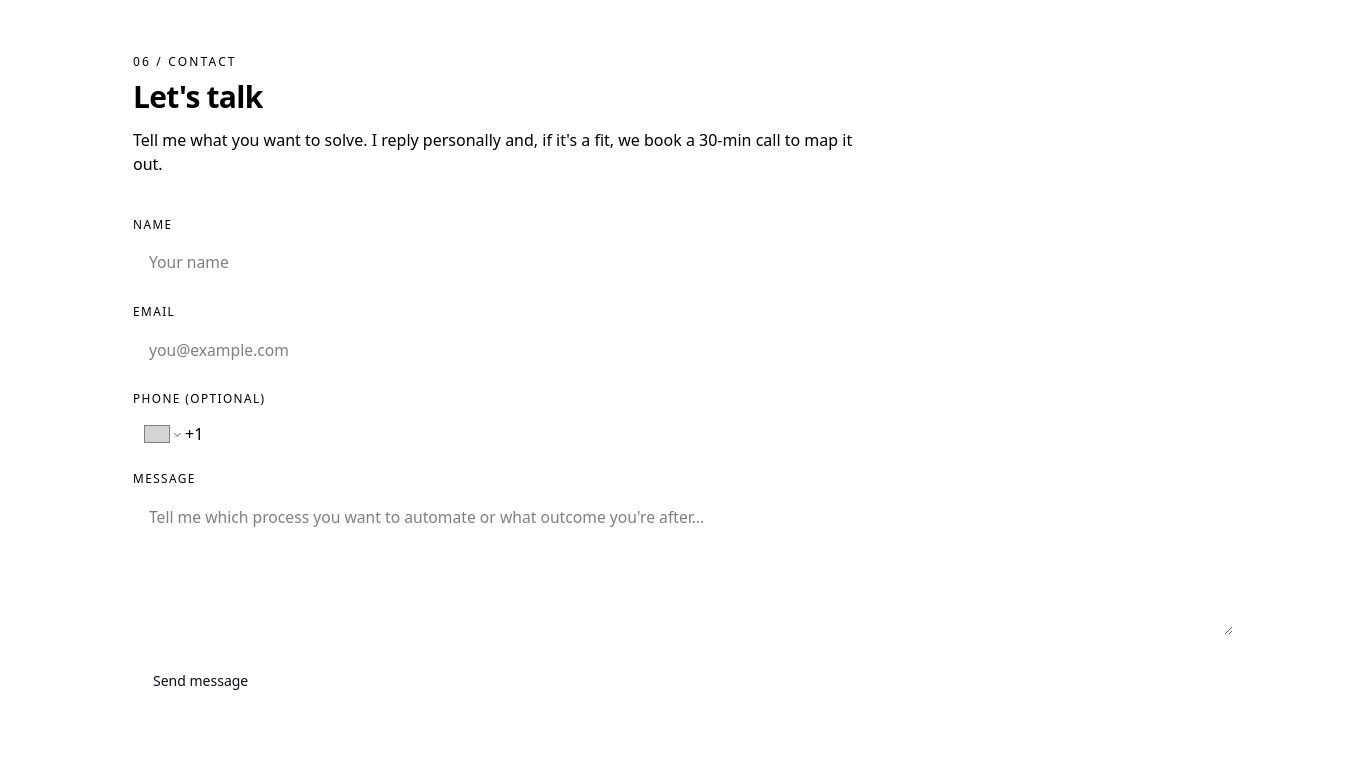
Test: Contact › submits a valid form and shows the success message
Type "Ada" into the field with placeholder "Your name". click: (683, 263)
box: [133, 239, 1233, 287]
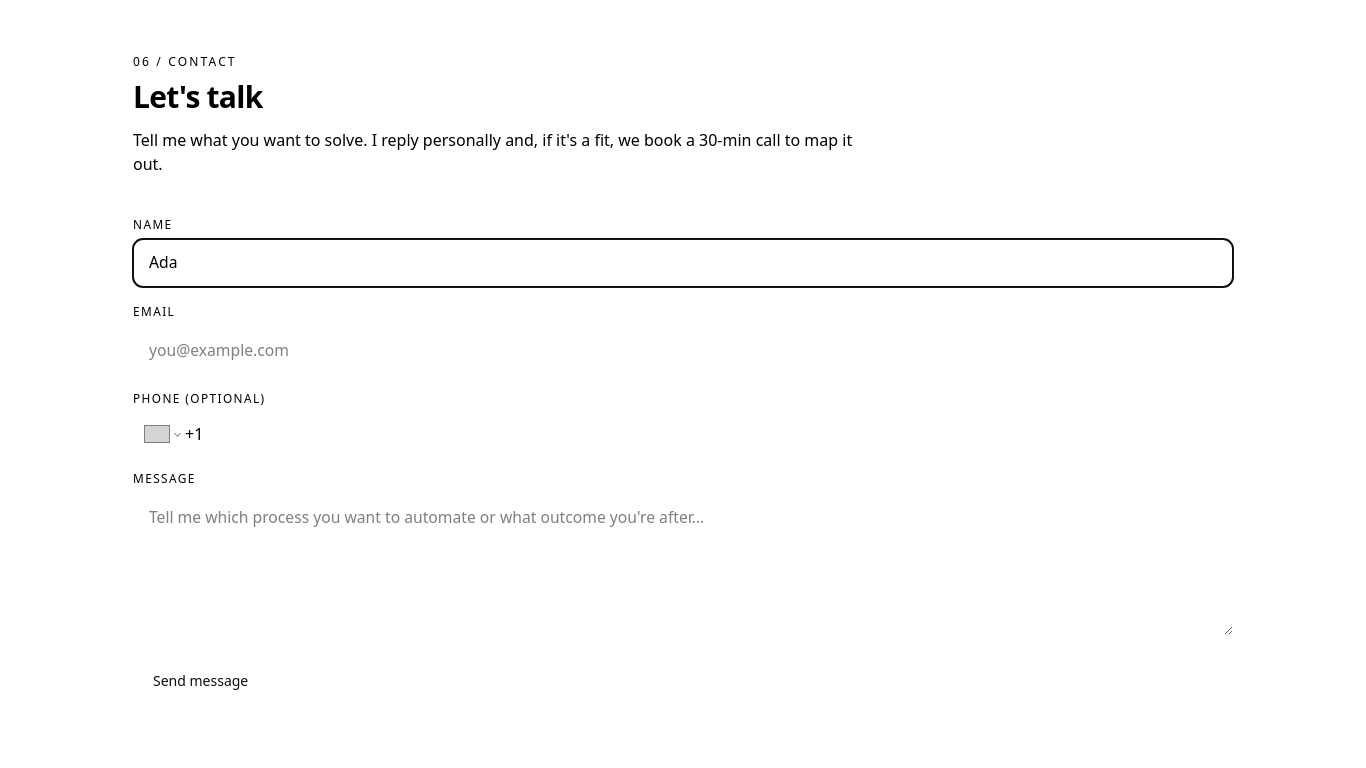
Type "ada@example.com" into the field with placeholder "you@example.com". click: (683, 350)
box: [133, 326, 1233, 374]
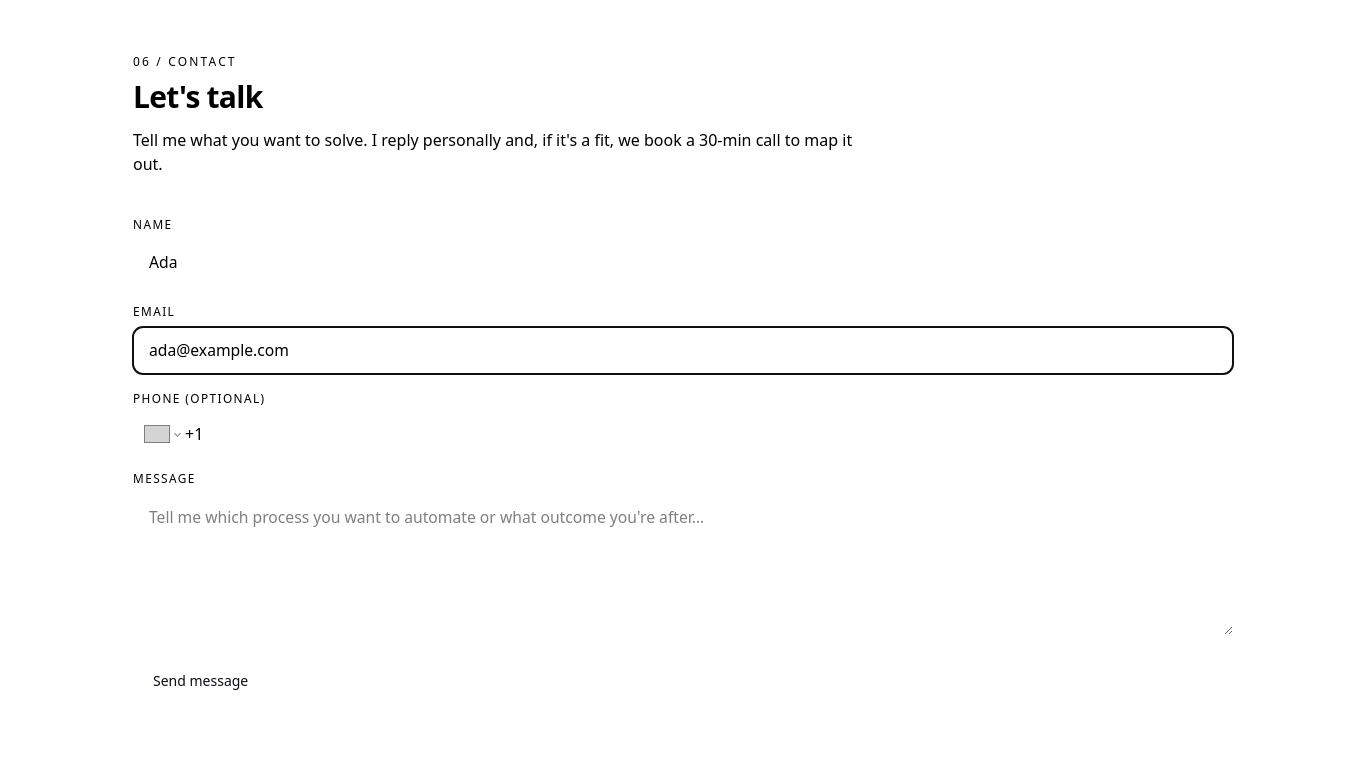
Type "I want to automate lead intake." into the text box with placeholder "Tell me which process". click: (683, 564)
box: [133, 494, 1233, 635]
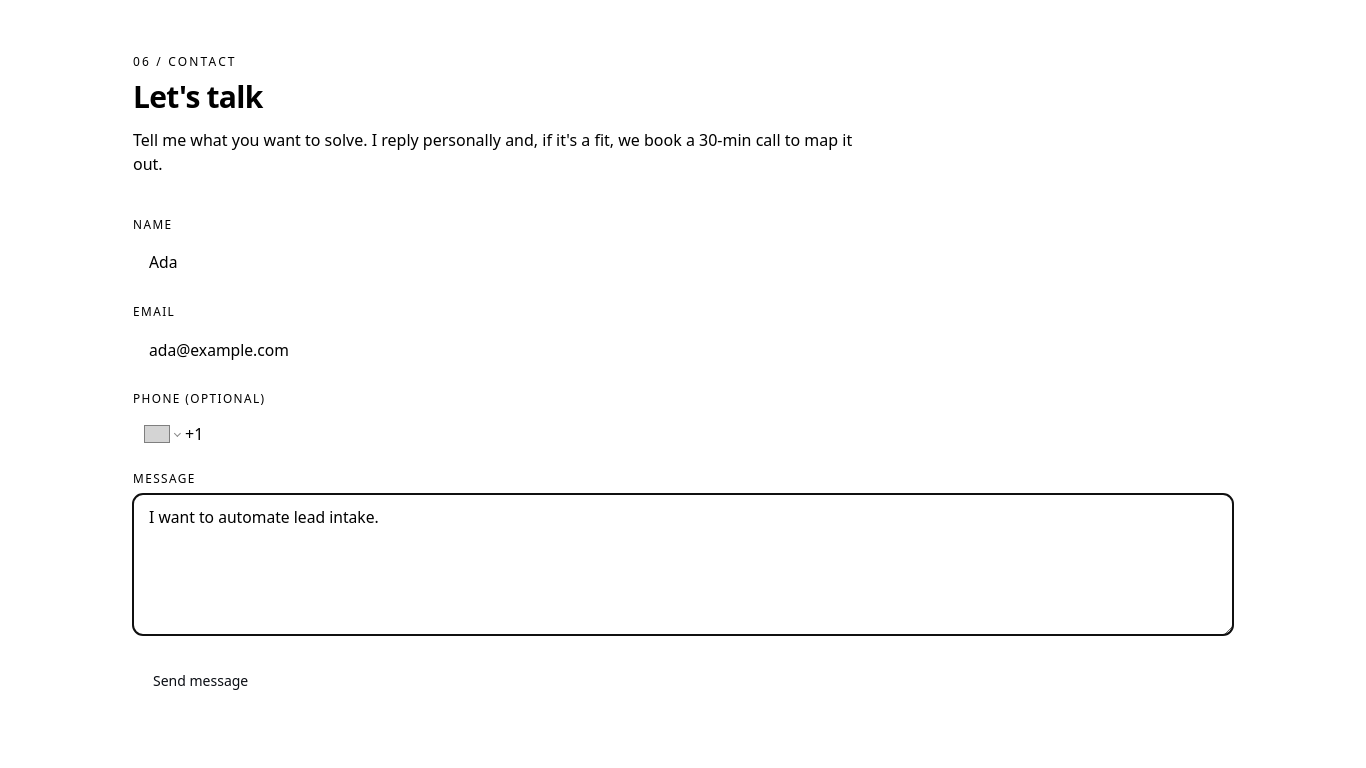
Click the button "Send message". click: (201, 681)
box: [133, 659, 268, 703]
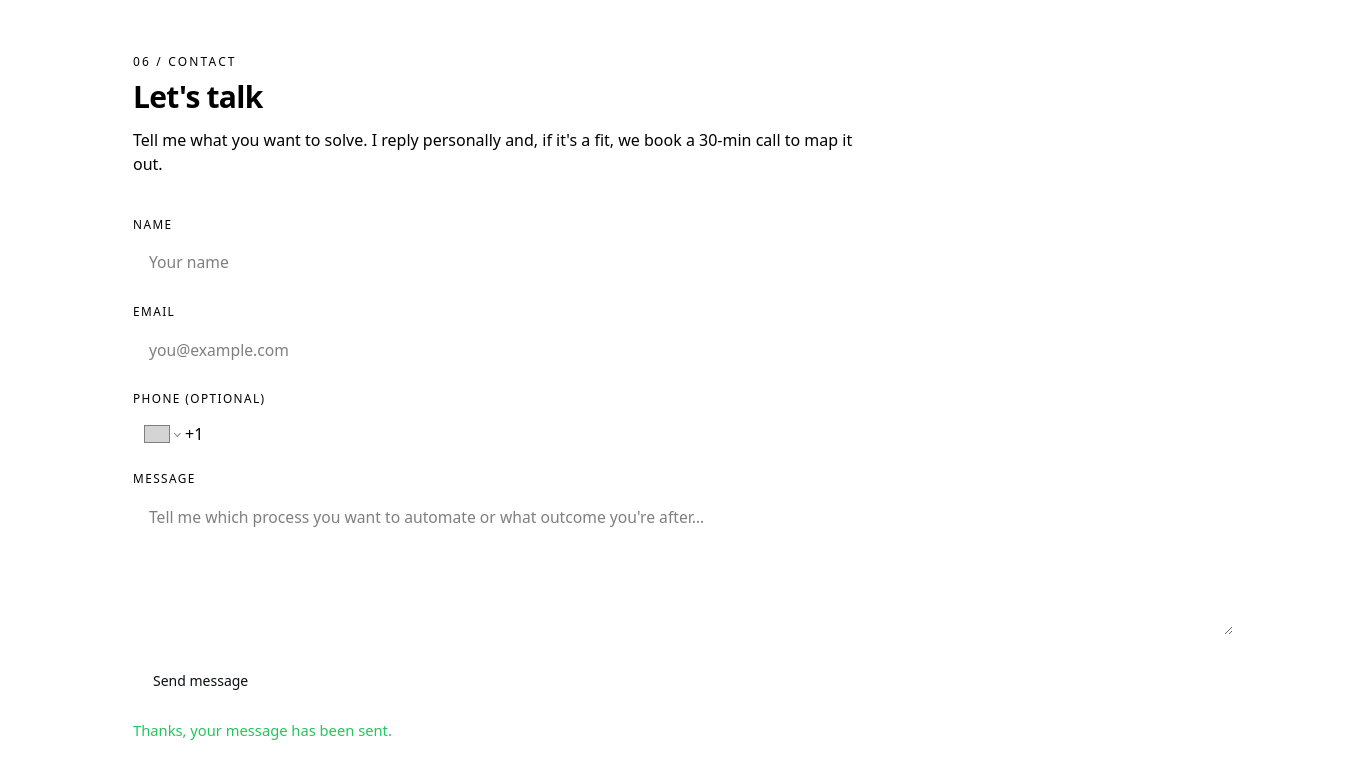
Expected: the text "Thanks, your message has been sent." is shown, [133, 720, 392, 740]
